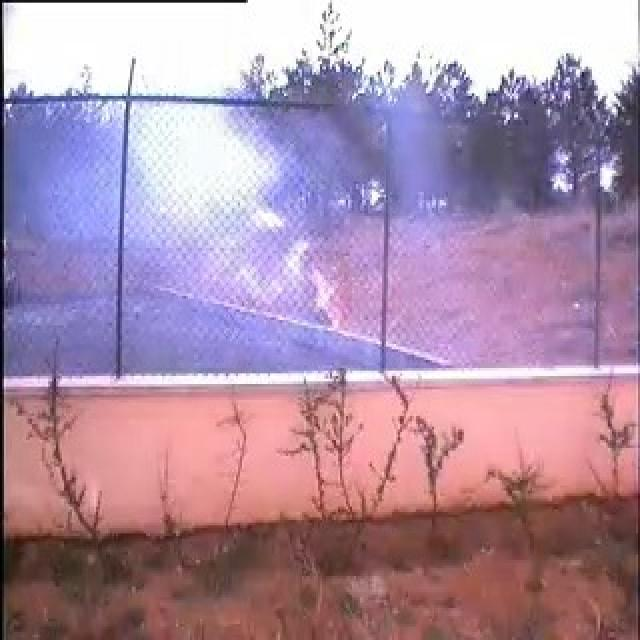smoke: (63, 104, 370, 369)
